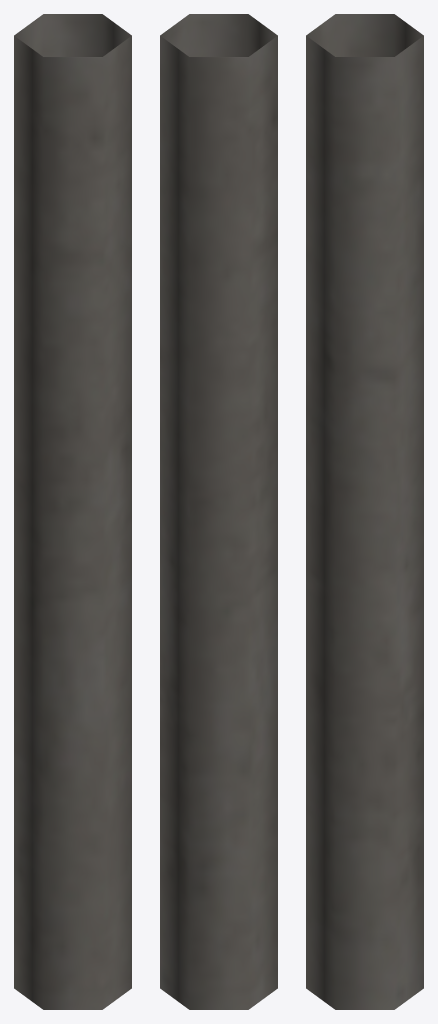
Rendered from cable_cable_10cm.fbx.
The picture shows the model from 3 angles, left to right: view 1: azimuth 90°, elevation 25°; view 2: azimuth 150°, elevation 25°; view 3: azimuth 270°, elevation 25°; orthographic projection.
Visible parts, largest first — view 1: modular_electric_cables__cable_10cm; view 2: modular_electric_cables__cable_10cm; view 3: modular_electric_cables__cable_10cm.
Part boxes in pixels (box(x1,y1,x2,y2)): modular_electric_cables__cable_10cm: box(14, 14, 131, 1009); modular_electric_cables__cable_10cm: box(160, 14, 277, 1009); modular_electric_cables__cable_10cm: box(306, 14, 423, 1009).
Size of the model in its own units: 0.00971 by 0.1 by 0.0112.
